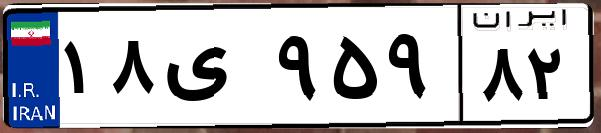1: (57, 26, 110, 100)
2: (525, 38, 570, 115)
5: (330, 28, 385, 110)
8: (475, 38, 525, 113), (110, 28, 158, 98)
9: (270, 28, 330, 110), (385, 28, 445, 110)
ی: (158, 20, 270, 120)
